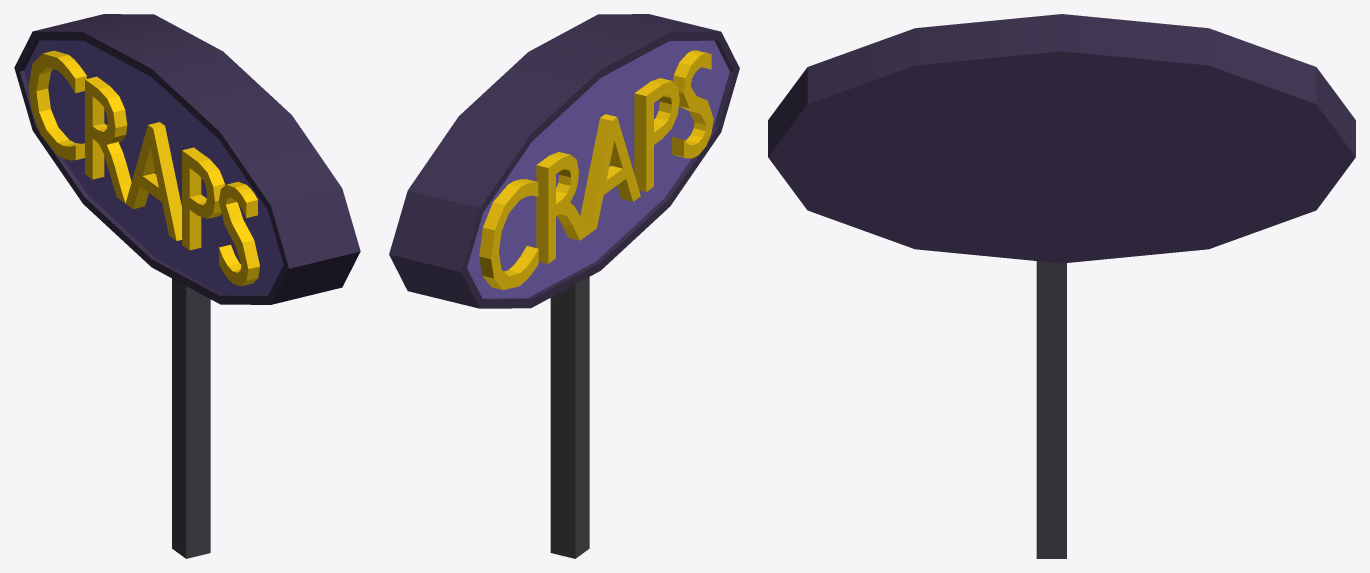
Rendered from Sign_craps.fbx.
The picture shows the model from 3 angles, left to right: view 1: azimuth 30°, elevation 25°; view 2: azimuth 150°, elevation 25°; view 3: azimuth 270°, elevation 25°; orthographic projection. The views are drawn at different scales.
Parts seen in each view (by area): view 1: Sign_craps, Craps_text, Cube.001; view 2: Sign_craps, Craps_text, Cube.001; view 3: Sign_craps, Cube.001.
Part boxes in pixels (x1=…): Sign_craps: x1=14, y1=14, x2=360, y2=304; Craps_text: x1=28, y1=50, x2=259, y2=286; Cube.001: x1=172, y1=278, x2=210, y2=558; Sign_craps: x1=389, y1=14, x2=739, y2=308; Craps_text: x1=479, y1=50, x2=713, y2=290; Cube.001: x1=550, y1=277, x2=589, y2=558; Sign_craps: x1=768, y1=14, x2=1355, y2=263; Cube.001: x1=1036, y1=261, x2=1066, y2=558.
Size of the model in its own units: 26.45 by 156 by 160.
